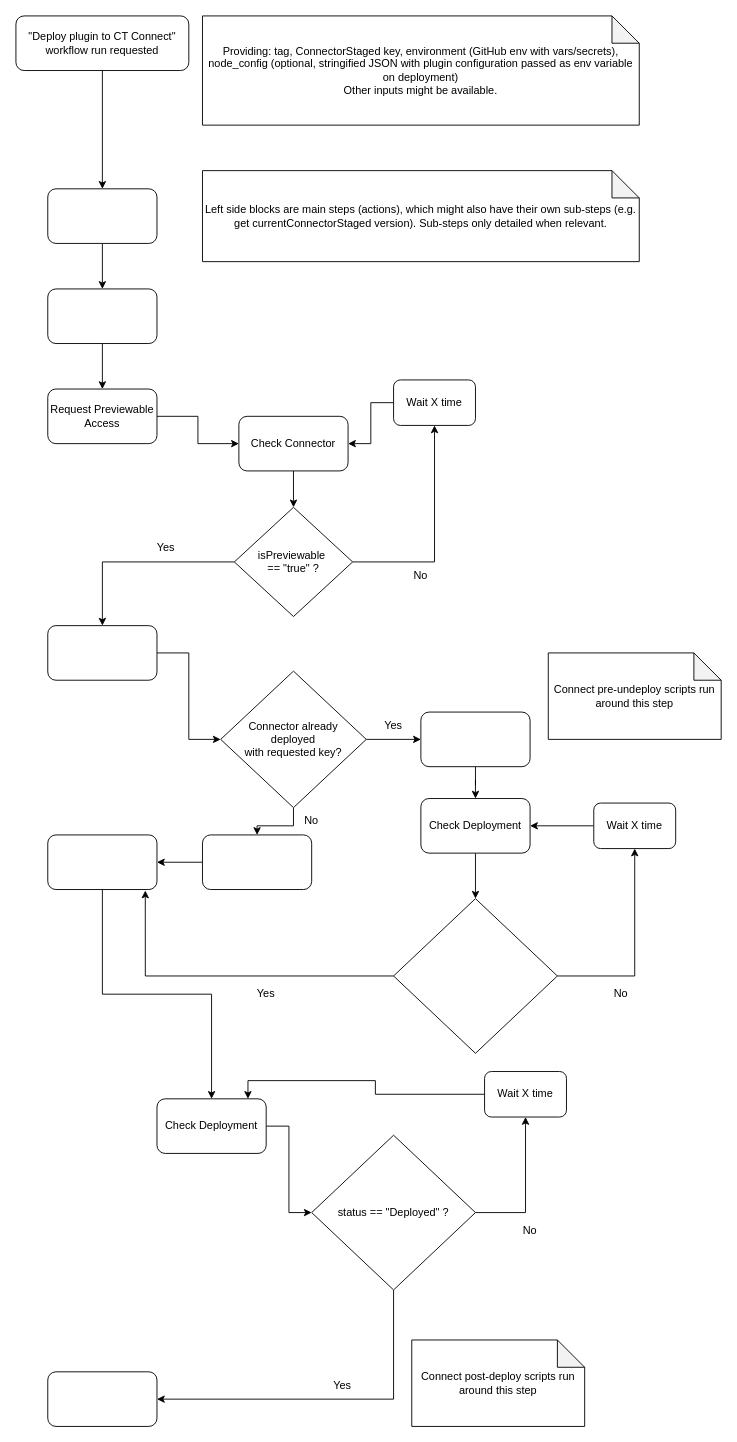
The diagram is 737 pixels wide and 1442 high, and some of its shapes have lost their labels. The shapes that lost their labels are listed below. From the top down, each one's centre as x and y in pixels, then its label:
At point 102,215: "Authenticate with commercetools".
At point 102,316: "Get Connector and Update Tag".
At point 102,652: "Check and Undeploy Connector".
At point 475,739: "Request Connector to be Undeployed".
At point 102,862: "Deploy Connector".
At point 257,862: "Skip to next step".
At point 475,975: "Connector Undeployed (Status 404) ?".
At point 102,1398: "Finished".
